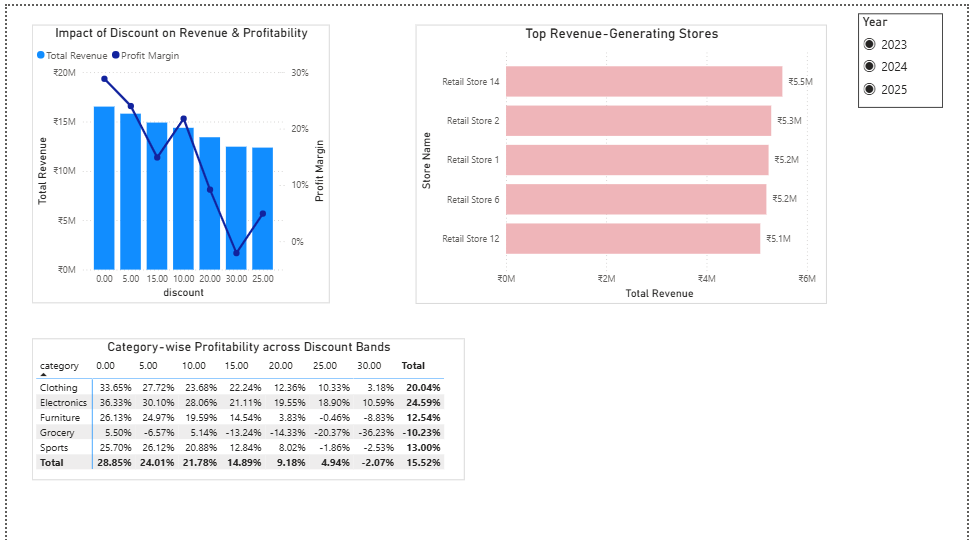

The dashboard page shown, as its layout file describes it:
{"tool":"powerbi","page":{"name":"Profitability & Optimization","canvas":[1280,720],"ordinal":2},"visuals":[{"type":"lineStackedColumnComboChart","title":"Impact of Discount on Revenue & Profitability","fields":{"Category":["orders.discount"],"Y":["orders.Total Revenue"],"Y2":["orders.Profit Margin"]},"box":[32.9,25.7,397.1,371.4],"z":0},{"type":"pivotTable","title":"Category-wise Profitability across Discount Bands","fields":{"Rows":["products.category"],"Columns":["orders.discount"],"Values":["orders.Profit Margin"]},"box":[32.9,442.9,577.1,188.6],"z":1000},{"type":"listSlicer","fields":{"Values":["Calendar.Year"]},"box":[1134.8,9.8,112.5,126],"z":1001}]}

Visuals, with their boxes in screenshot pixels (x1, y1, x2, y2), scaled from the page's 1280x720 canvas onto the 972x540 screenshot:
"Impact of Discount on Revenue & Profitability" lineStackedColumnComboChart: (25, 19, 327, 298)
"Category-wise Profitability across Discount Bands" pivotTable: (25, 332, 463, 474)
listSlicer - Calendar.Year: (862, 7, 947, 102)
